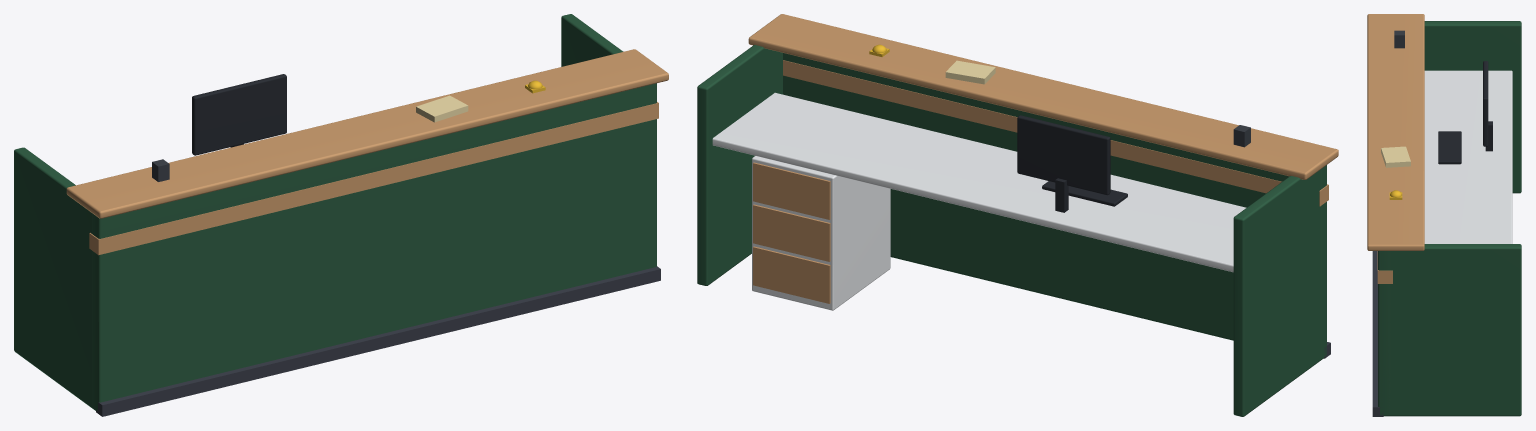
The model's file is ReceptionDesk.fbx.
3 views of the same model, side by side, from view 1: azimuth 30°, elevation 25°; view 2: azimuth 150°, elevation 25°; view 3: azimuth 270°, elevation 25° (orthographic). The views are drawn at different scales.
Parts seen in each view (by area): view 1: ReceptionDeskBody; view 2: ReceptionDeskBody, Drawer, Drawer__swap.001, Drawer__swap.002; view 3: ReceptionDeskBody.
Boxes of the visible parts, x1,y1,x2,y2 form: ReceptionDeskBody: (14, 14, 668, 416); ReceptionDeskBody: (697, 14, 1338, 416); Drawer: (753, 246, 830, 303); Drawer__swap.001: (753, 162, 830, 219); Drawer__swap.002: (753, 204, 830, 261); ReceptionDeskBody: (1367, 14, 1521, 416).
Bounding box in the file's own units: 3.06 × 1.19 × 0.86.
